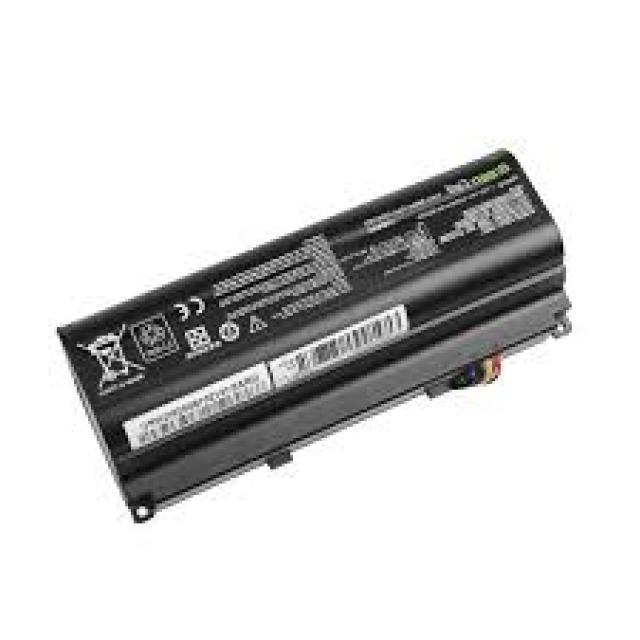battery: (59, 148, 572, 523)
